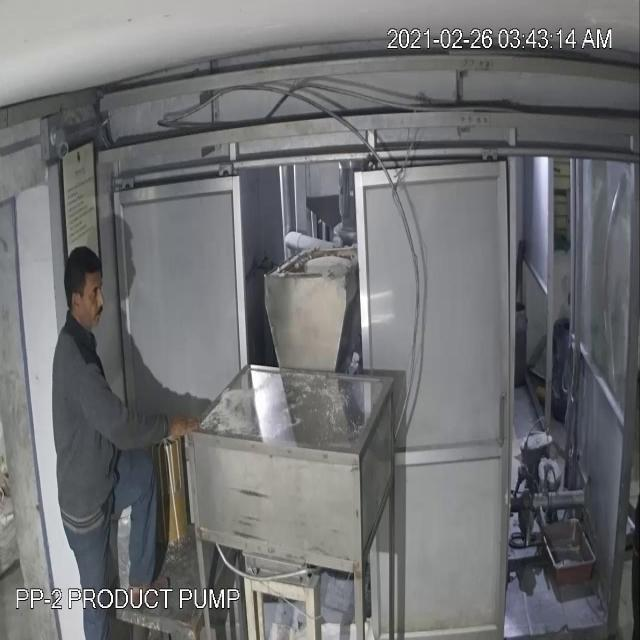no-helmet: (62, 241, 108, 331)
